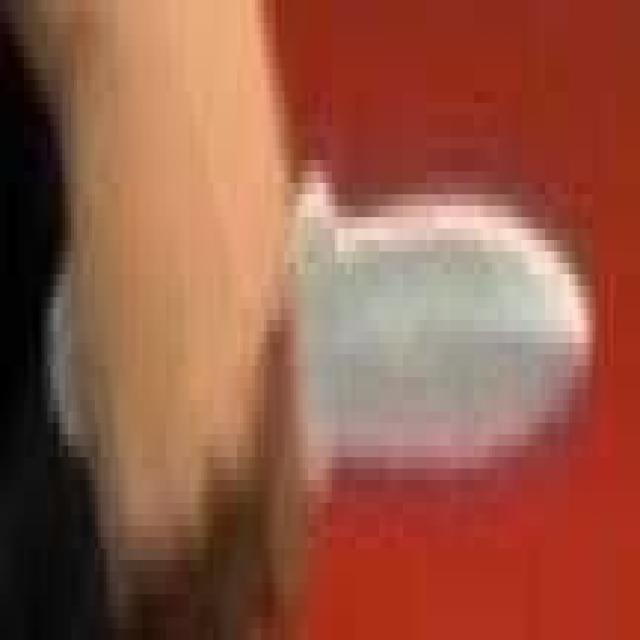Knife: (42, 168, 606, 517)
